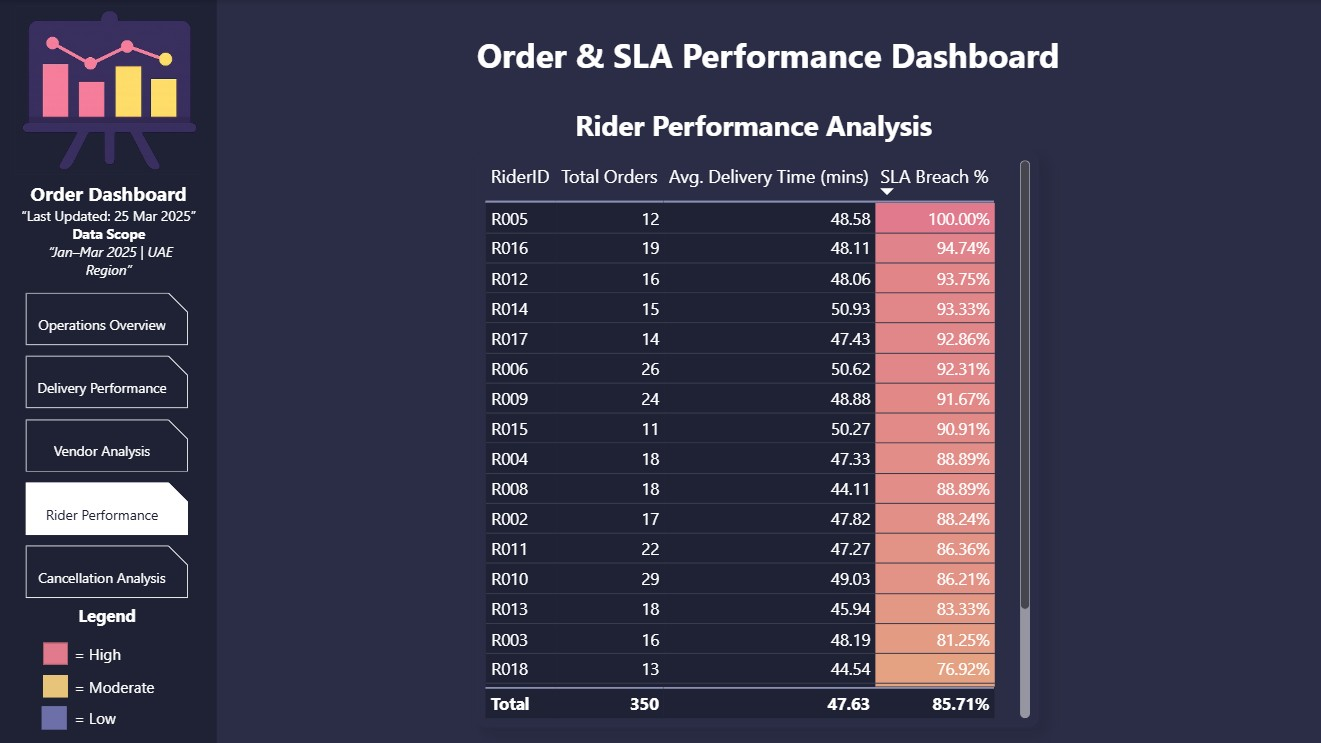

This screenshot's page, from the dashboard's own definition file:
{"tool":"powerbi","page":{"name":"Rider Performance","canvas":[1280,720],"ordinal":3},"visuals":[{"type":"shape","box":[1.2,0,209.9,720.2],"z":0,"group":"g1"},{"type":"tableEx","fields":{"Values":["Orders.RiderID","Orders.Total Orders","Orders.Average Delivery Time","Orders.SLA Breach %"]},"box":[460.9,146,544.1,556.2],"z":0},{"type":"shape","box":[44.3,620.4,24.2,21.6],"z":0,"group":"g2"},{"type":"group","id":"g1","title":"Group 3","box":[1.2,0,209.5,720.8],"z":1000},{"type":"image","box":[17.2,6.2,179.9,162.6],"z":1000,"group":"g3"},{"type":"textbox","box":[69.7,616.1,62.9,31.3],"z":1000,"group":"g2"},{"type":"textbox","box":[457.2,97.7,544.1,48.3],"z":2000},{"type":"pageNavigator","box":[27.1,282.2,157.7,295.7],"z":2000,"group":"g3"},{"type":"shape","box":[44.3,651.7,24.2,21.6],"z":2000,"group":"g2"},{"type":"textbox","box":[457.1,27.1,576.7,60.4],"z":3000},{"type":"textbox","box":[17.2,168.8,179.9,113.4],"z":3000,"group":"g3"},{"type":"textbox","box":[62.8,577.9,87.5,38.2],"z":3000,"group":"g2"},{"type":"group","id":"g2","title":"Group 2","box":[43.1,577.9,126.9,131.8],"z":4000,"group":"g3"},{"type":"textbox","box":[69.7,647.4,100.3,31.3],"z":4000,"group":"g2"},{"type":"group","id":"g3","title":"Group 1","box":[17.2,6.2,179.9,703.6],"z":4001,"group":"g1"},{"type":"shape","box":[43.1,681.8,24.2,22.6],"z":5000,"group":"g2"},{"type":"textbox","box":[69.7,678.6,62.9,31.3],"z":6000,"group":"g2"}]}

Visuals, with their boxes in screenshot pixels (x1, y1, x2, y2), scaled from the page's 1280x720 canvas onto the 1321x743 screenshot:
shape: {"left": 1, "top": 0, "right": 218, "bottom": 742}
tableEx - Orders.RiderID x Orders.Total Orders: {"left": 476, "top": 151, "right": 1037, "bottom": 725}
shape: {"left": 46, "top": 640, "right": 71, "bottom": 663}
"Group 3" group: {"left": 1, "top": 0, "right": 217, "bottom": 742}
image: {"left": 18, "top": 6, "right": 203, "bottom": 174}
textbox: {"left": 72, "top": 636, "right": 137, "bottom": 668}
textbox: {"left": 472, "top": 101, "right": 1033, "bottom": 151}
pageNavigator: {"left": 28, "top": 291, "right": 191, "bottom": 596}
shape: {"left": 46, "top": 673, "right": 71, "bottom": 695}
textbox: {"left": 472, "top": 28, "right": 1067, "bottom": 90}
textbox: {"left": 18, "top": 174, "right": 203, "bottom": 291}
textbox: {"left": 65, "top": 596, "right": 155, "bottom": 636}
"Group 2" group: {"left": 44, "top": 596, "right": 175, "bottom": 732}
textbox: {"left": 72, "top": 668, "right": 175, "bottom": 700}
"Group 1" group: {"left": 18, "top": 6, "right": 203, "bottom": 732}
shape: {"left": 44, "top": 704, "right": 69, "bottom": 727}
textbox: {"left": 72, "top": 700, "right": 137, "bottom": 733}
